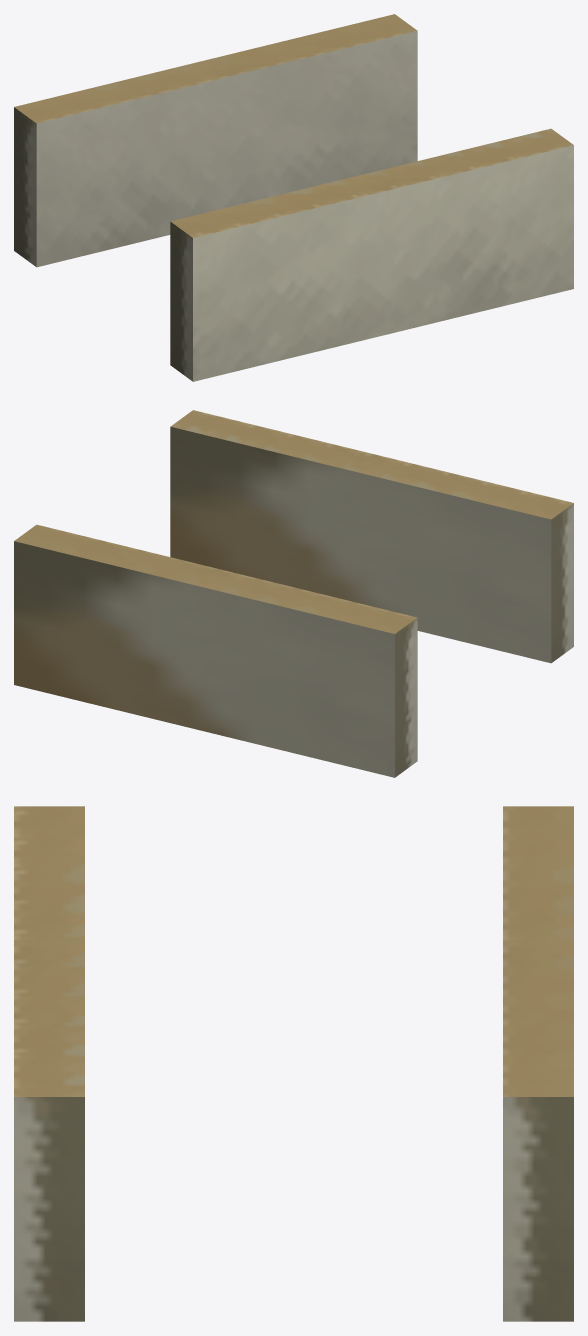
File: pz_g016_shop_beige_wall_shop_shelves.obj
The picture shows the model from 3 angles, top to bottom: view 1: azimuth 30°, elevation 25°; view 2: azimuth 150°, elevation 25°; view 3: azimuth 270°, elevation 25°; orthographic projection. The views are drawn at different scales.
Visible parts, largest first — view 1: physical_component_0_z+, physical_component_1_z+, physical_component_0_y+, physical_component_1_y+, physical_component_0_x-, physical_component_1_x-; view 2: physical_component_1_z-, physical_component_0_z-, physical_component_1_y+, physical_component_0_y+, physical_component_0_x-, physical_component_1_x-; view 3: physical_component_0_y+, physical_component_1_y+, physical_component_0_x+, physical_component_1_x+.
Boxes of the visible parts, x1,y1,x2,y2 form: physical_component_0_z+: (193, 145, 573, 381); physical_component_1_z+: (36, 30, 417, 267); physical_component_0_y+: (170, 128, 573, 237); physical_component_1_y+: (14, 14, 416, 123); physical_component_0_x-: (170, 221, 192, 381); physical_component_1_x-: (14, 107, 36, 266); physical_component_1_z-: (14, 541, 394, 777); physical_component_0_z-: (170, 426, 551, 663); physical_component_1_y+: (14, 524, 417, 633); physical_component_0_y+: (171, 410, 573, 519); physical_component_0_x-: (551, 503, 573, 662); physical_component_1_x-: (395, 617, 417, 777); physical_component_0_y+: (14, 806, 84, 1096); physical_component_1_y+: (503, 806, 573, 1096); physical_component_0_x+: (14, 1097, 84, 1321); physical_component_1_x+: (503, 1097, 573, 1321).
Size of the model in its own units: 0.97 by 0.35 by 0.79.
1 material, 1 textured.
